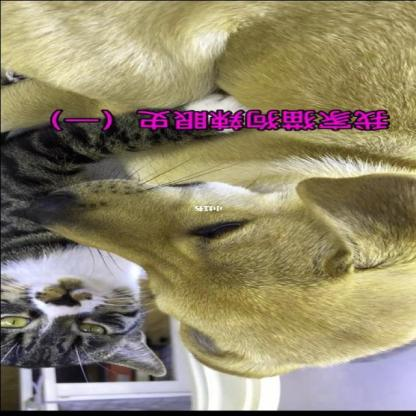cat: (0, 251, 183, 390)
dog: (65, 150, 416, 386)
